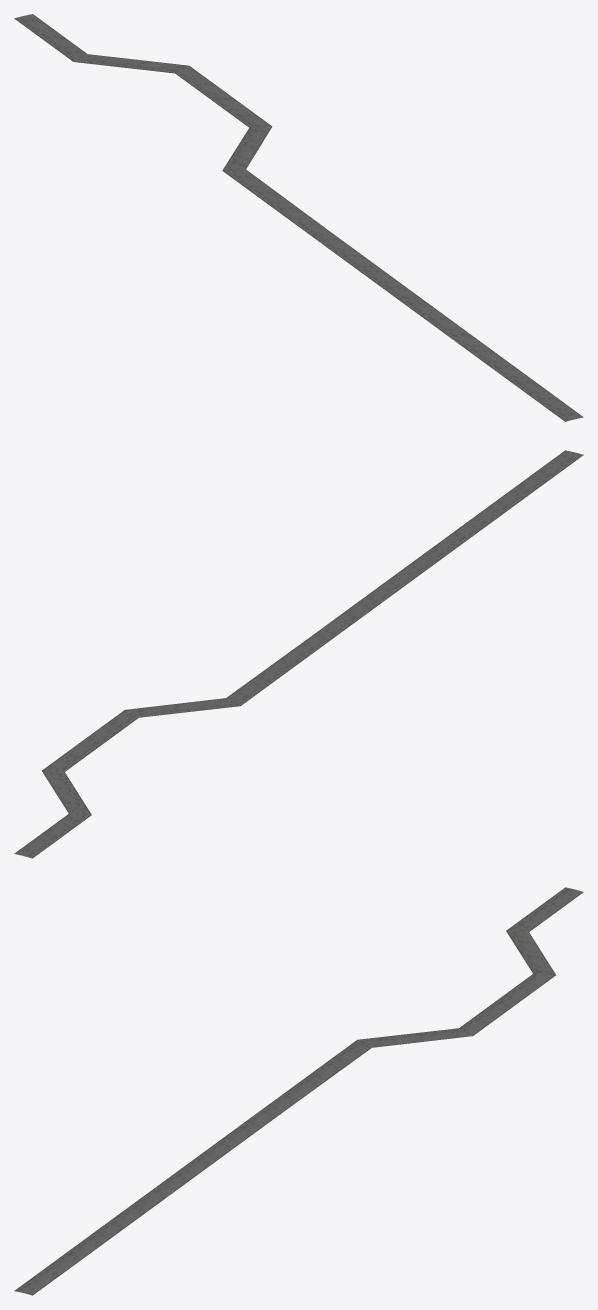
The model's file is SM_ENV_LKNVLD_Ground_Right_bigSideTrim.FBX.
The picture shows the model from 3 angles, top to bottom: view 1: azimuth 30°, elevation 25°; view 2: azimuth 150°, elevation 25°; view 3: azimuth 330°, elevation 25°; orthographic projection.
Visible parts, largest first — view 1: SM_ENV_LKNVLD_Ground_Right_bigSideTrim; view 2: SM_ENV_LKNVLD_Ground_Right_bigSideTrim; view 3: SM_ENV_LKNVLD_Ground_Right_bigSideTrim.
Part boxes in pixels (bbox=[...]): SM_ENV_LKNVLD_Ground_Right_bigSideTrim: bbox=[14, 14, 583, 421]; SM_ENV_LKNVLD_Ground_Right_bigSideTrim: bbox=[14, 450, 583, 858]; SM_ENV_LKNVLD_Ground_Right_bigSideTrim: bbox=[14, 887, 583, 1295].
Bounding box in the file's own units: 1137 × 10.89 × 13053.
